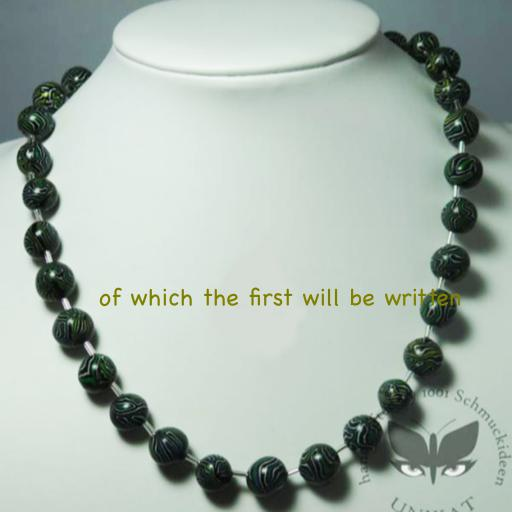Chalkboard: (99, 287, 461, 307)
